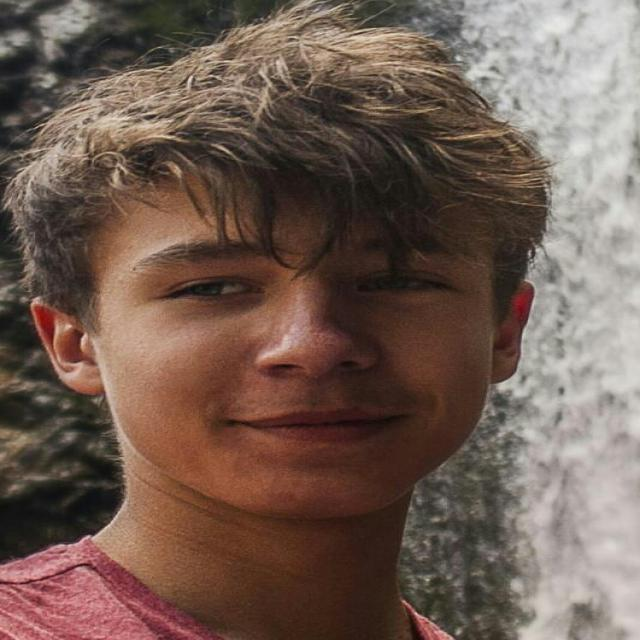front: (111, 226, 477, 480)
